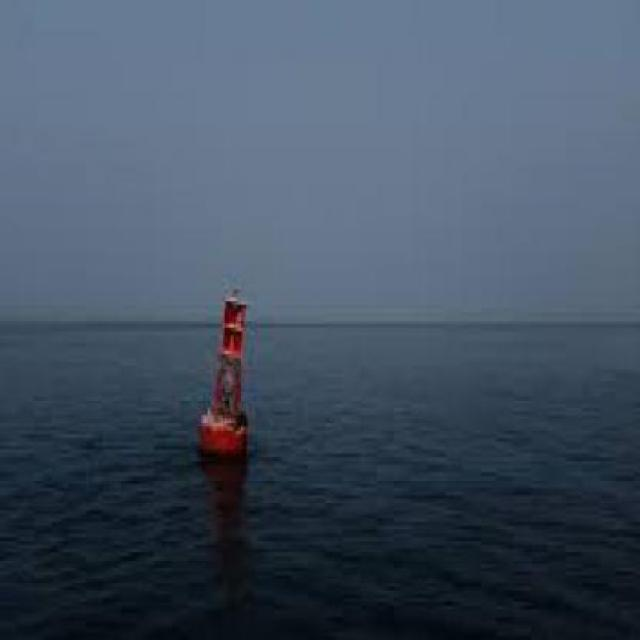buoy: (192, 279, 266, 470)
